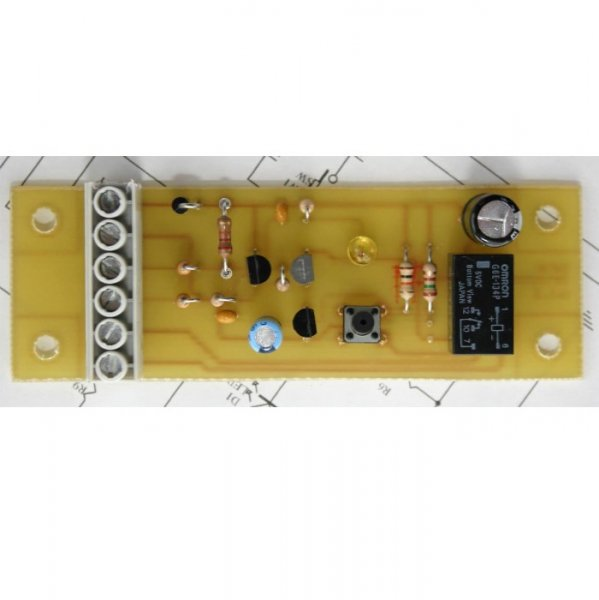capacitor: (463, 192, 523, 248), (250, 317, 283, 355)
resistor: (398, 261, 416, 301), (423, 262, 438, 301), (218, 217, 232, 255)
